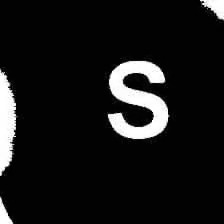LTR_S: (103, 56, 179, 145)
